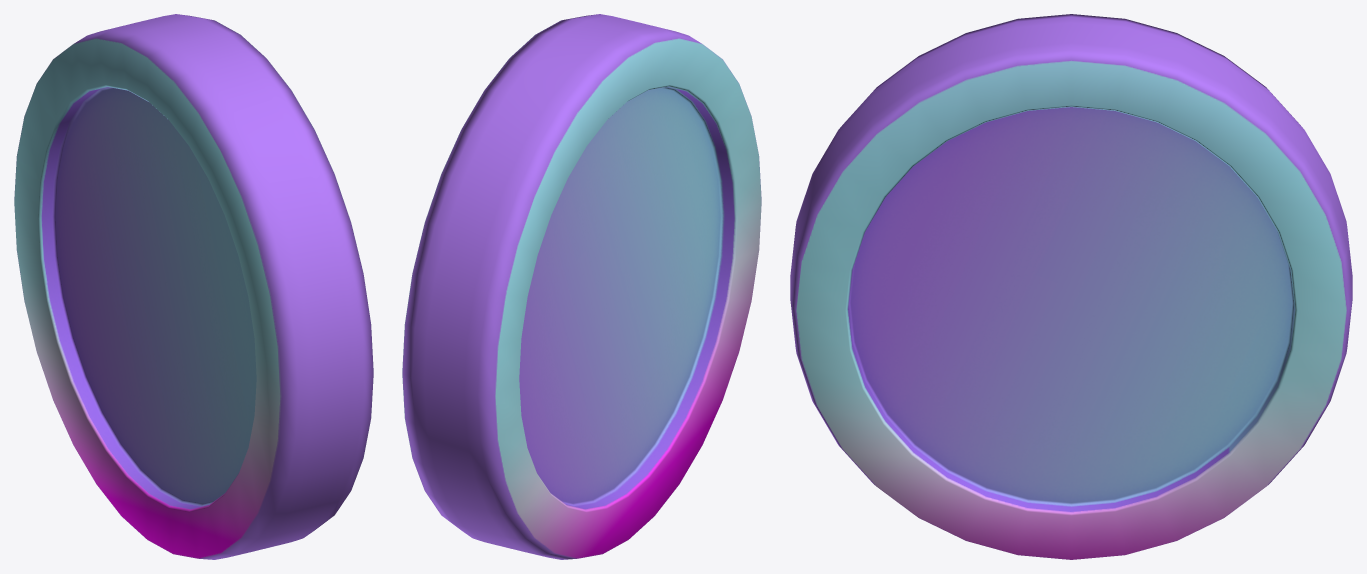
Rendered from coin07 - Copy.fbx.
The picture shows the model from 3 angles, left to right: view 1: azimuth 30°, elevation 25°; view 2: azimuth 150°, elevation 25°; view 3: azimuth 270°, elevation 25°; orthographic projection. The views are drawn at different scales.
Visible parts, largest first — view 1: coin-lp.07; view 2: coin-lp.07; view 3: coin-lp.07.
Part boxes in pixels (x1,y1,x2,y2): coin-lp.07: (14,14,373,559); coin-lp.07: (402,14,761,559); coin-lp.07: (790,14,1352,559).
Size of the model in its own units: 0.0522 by 0.2633 by 0.2633.
1 material, 1 textured.
